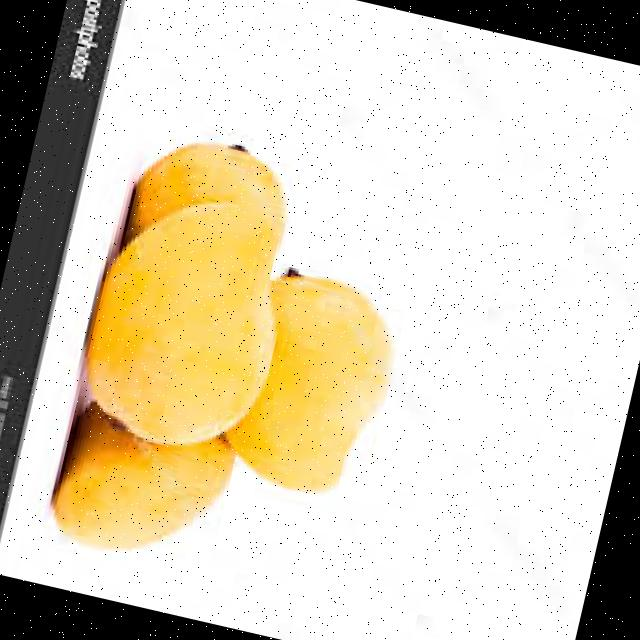mango: (80, 197, 276, 445)
